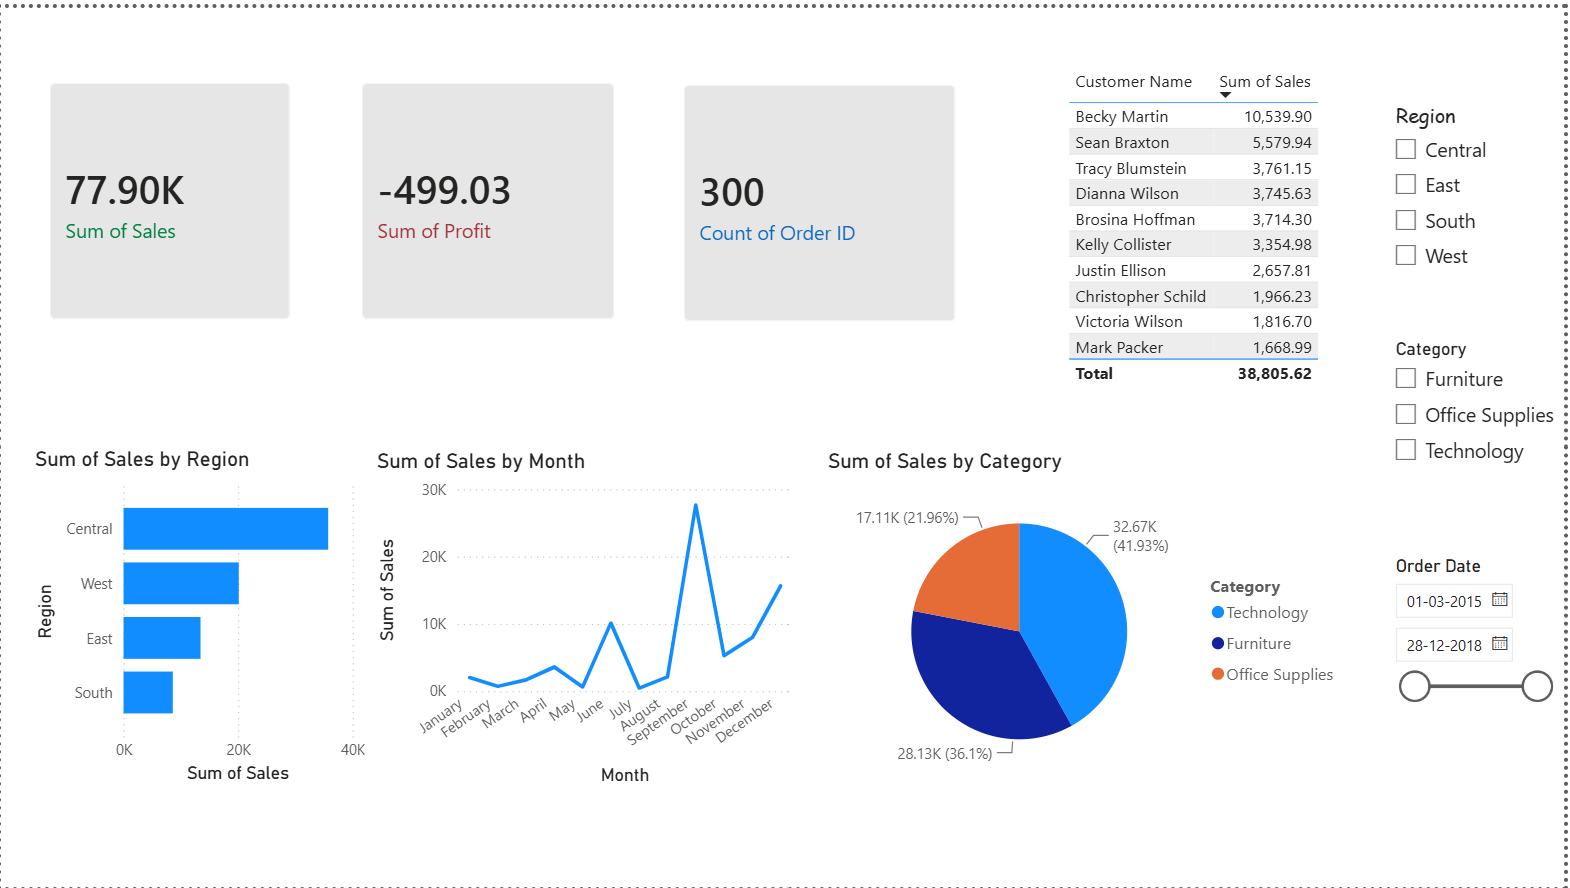

The page's visual inventory and layout, read from the dashboard file:
{"tool":"powerbi","page":{"name":"Page 1","canvas":[1280,720],"ordinal":0},"visuals":[{"type":"cardVisual","fields":{"Data":["Sum(Sheet1.Sales)"]},"box":[23.3,45,231.7,228.3],"z":0},{"type":"cardVisual","fields":{"Data":["Sum(Sheet1.Profit)"]},"box":[278.3,45,241.7,228.3],"z":1000},{"type":"cardVisual","fields":{"Data":["CountNonNull(Sheet1.Order ID)"]},"box":[543.3,46.7,256.7,228.3],"z":2000},{"type":"clusteredBarChart","fields":{"Category":["Sheet1.Region"],"Y":["Sum(Sheet1.Sales)"]},"box":[22.7,359.8,280.2,280.2],"z":3000},{"type":"lineChart","fields":{"Category":["Sheet1.Order Date.Variation.Date Hierarchy.Month"],"Y":["Sum(Sheet1.Sales)"]},"box":[303.3,360,350,280],"z":4000},{"type":"pieChart","fields":{"Category":["Sheet1.Category"],"Y":["Sum(Sheet1.Sales)"]},"box":[671.7,360,433.3,280],"z":5000},{"type":"tableEx","fields":{"Values":["Sheet1.Customer Name","Sum(Sheet1.Sales)"]},"box":[868.3,45,236.7,273.3],"z":6000},{"type":"slicer","fields":{"Values":["Sheet1.Region"]},"box":[1130,71.7,150,178.3],"z":6001},{"type":"slicer","fields":{"Values":["Sheet1.Category"]},"box":[1130,265,150,145],"z":6002},{"type":"slicer","fields":{"Values":["Sheet1.Order Date"]},"box":[1130,443.3,150,150],"z":6003}]}

Visuals, with their boxes in screenshot pixels (x1, y1, x2, y2), scaled from the page's 1280x720 canvas onto the 1570x888 screenshot:
cardVisual - Sum(Sheet1.Sales): 29 56 313 337
cardVisual - Sum(Sheet1.Profit): 341 56 638 337
cardVisual - CountNonNull(Sheet1.Order ID): 666 58 981 339
clusteredBarChart - Sheet1.Region x Sum(Sheet1.Sales): 28 444 372 789
lineChart - Sheet1.Order Date.Variation.Date Hierarchy.Month x Sum(Sheet1.Sales): 372 444 801 789
pieChart - Sheet1.Category x Sum(Sheet1.Sales): 824 444 1355 789
tableEx - Sheet1.Customer Name x Sum(Sheet1.Sales): 1065 56 1355 393
slicer - Sheet1.Region: 1386 88 1569 308
slicer - Sheet1.Category: 1386 327 1569 506
slicer - Sheet1.Order Date: 1386 547 1569 732
